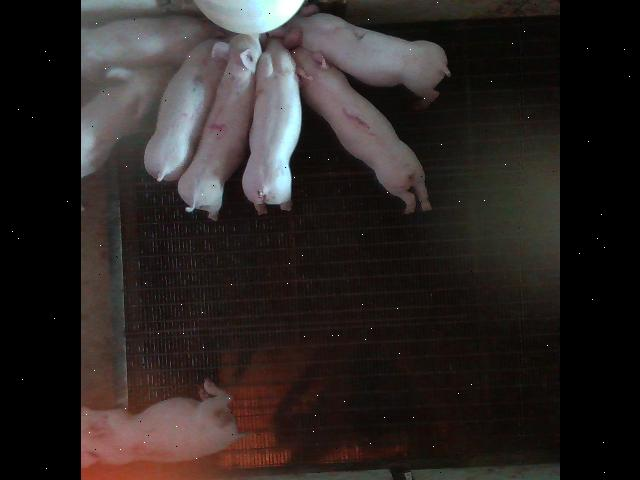pig-1: (291, 48, 429, 214)
pig-3: (82, 380, 245, 468)
pig-4: (178, 35, 260, 219)
